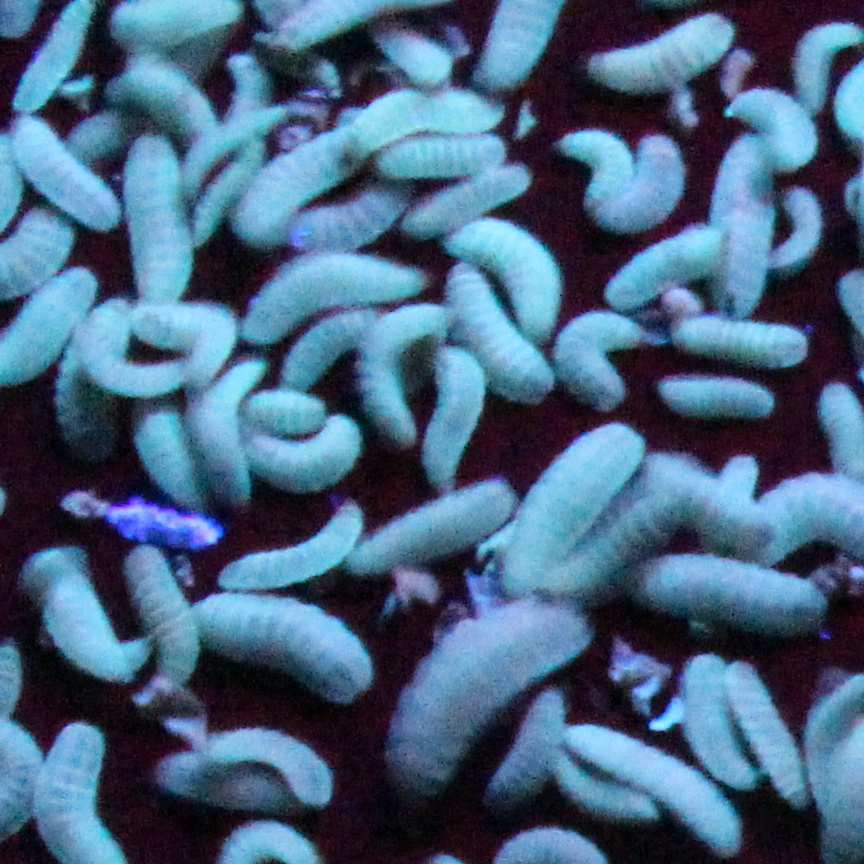larve: (394, 600, 594, 784), (561, 713, 743, 857), (502, 415, 650, 586), (9, 538, 156, 688), (185, 590, 375, 700), (623, 544, 836, 640), (347, 465, 520, 578), (244, 248, 415, 344), (214, 491, 375, 592), (445, 209, 565, 342), (442, 263, 556, 401), (579, 1, 736, 100), (235, 121, 352, 251), (5, 113, 120, 242), (705, 127, 778, 322), (715, 655, 813, 800), (117, 134, 194, 315), (186, 717, 344, 803), (677, 642, 763, 798), (119, 542, 204, 692), (103, 64, 229, 161), (548, 303, 656, 413), (346, 82, 500, 159), (219, 415, 369, 490), (481, 688, 569, 815), (187, 361, 267, 499), (594, 126, 692, 238), (3, 1, 98, 114), (395, 164, 539, 238), (423, 340, 481, 492), (550, 125, 635, 223), (652, 369, 778, 431), (137, 295, 239, 353), (219, 390, 331, 434)
